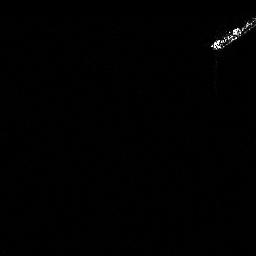ship: (209, 16, 256, 52)
